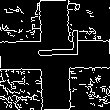L_W: (29, 39, 81, 71)
